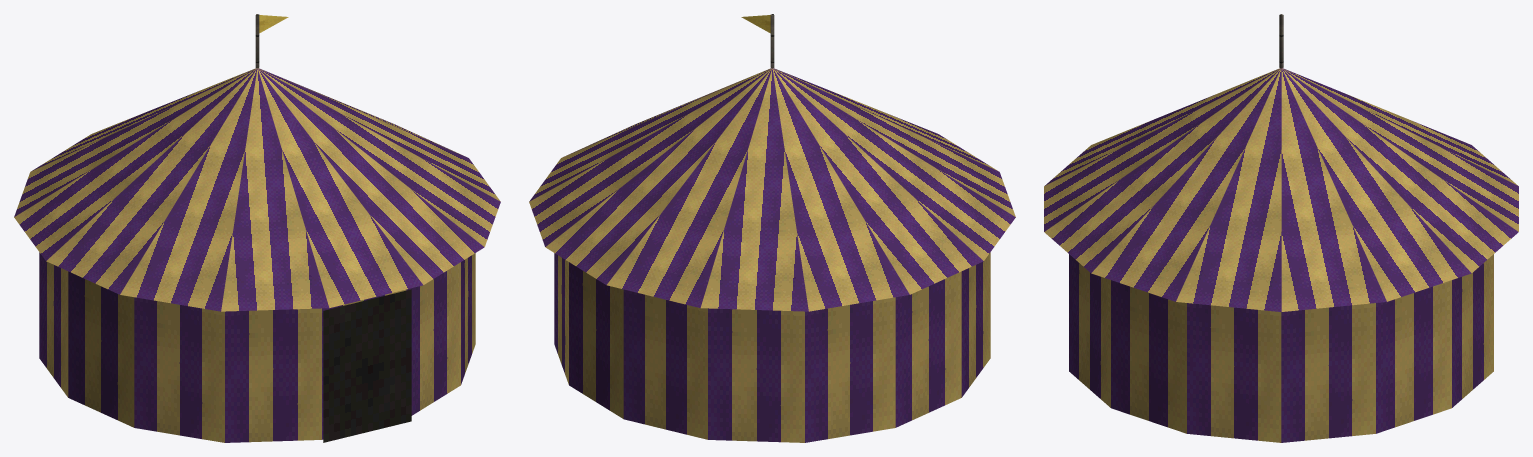
The model's file is carpa.obj.
3 renders of one model, left to right at view 1: azimuth 30°, elevation 25°; view 2: azimuth 150°, elevation 25°; view 3: azimuth 270°, elevation 25°, orthographic.
Visible parts, largest first — view 1: carpa; view 2: carpa; view 3: carpa.
Part boxes in pixels (x1=…): carpa: x1=14, y1=14, x2=500, y2=442; carpa: x1=529, y1=14, x2=1015, y2=442; carpa: x1=1044, y1=14, x2=1518, y2=442.
Size of the model in its own units: 6.7 by 5.1 by 6.53.
4 materials, 4 textured.
